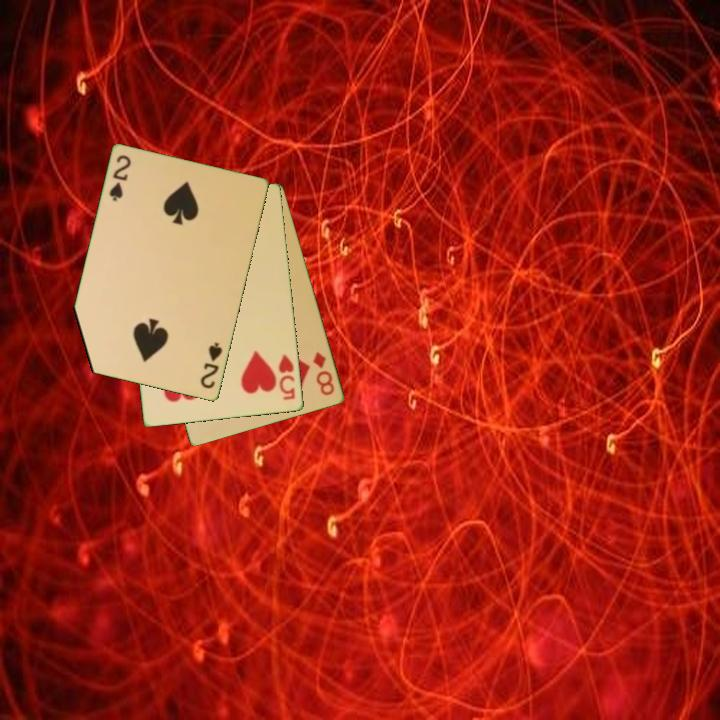2s: (197, 339, 226, 392), (106, 152, 134, 204)
5h: (275, 351, 298, 403)
8d: (310, 348, 338, 399)
